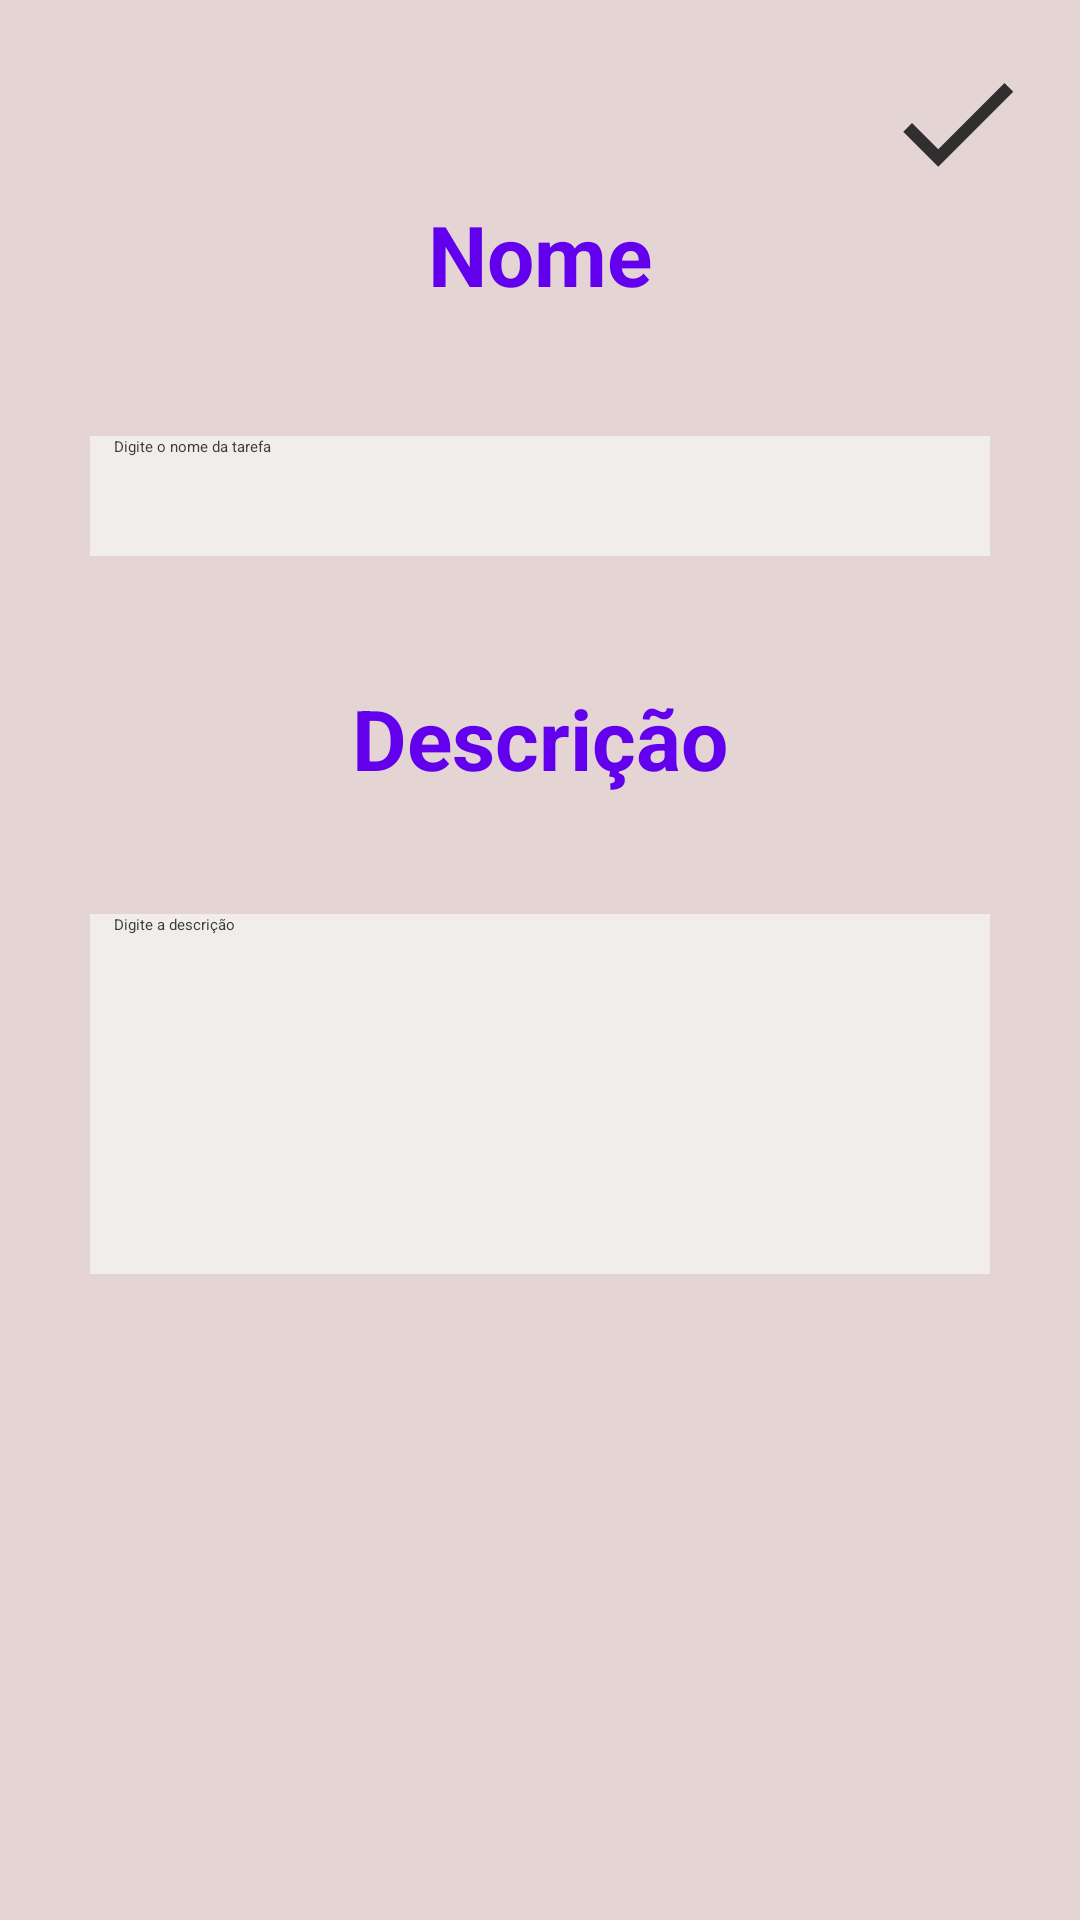

Icon bounding boxes for this 1080*1920 phone screenshot, format bbox(x1, y1, x2, y2):
done: bbox(903, 83, 1013, 167)
